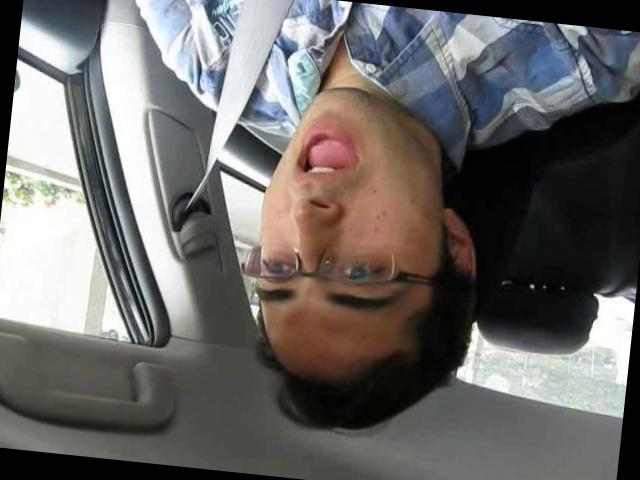eye_open: (334, 252, 392, 290), (260, 252, 300, 282)
face: (246, 77, 450, 345)
mouth_open: (291, 125, 368, 188)
